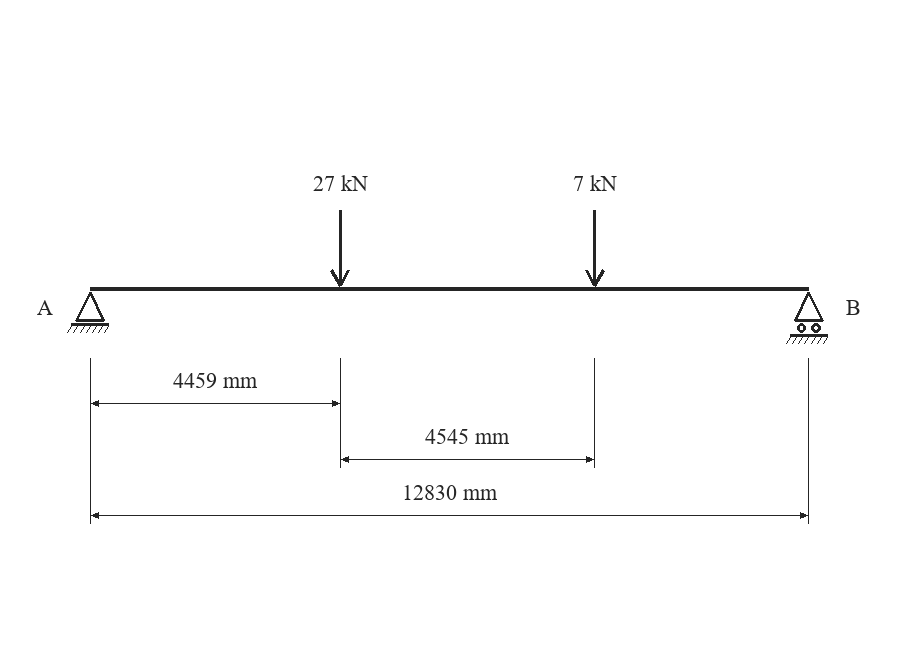pin_support: (67, 292, 109, 333)
point_load: (330, 210, 350, 287), (585, 210, 605, 287)
roller_support: (786, 292, 828, 344)
